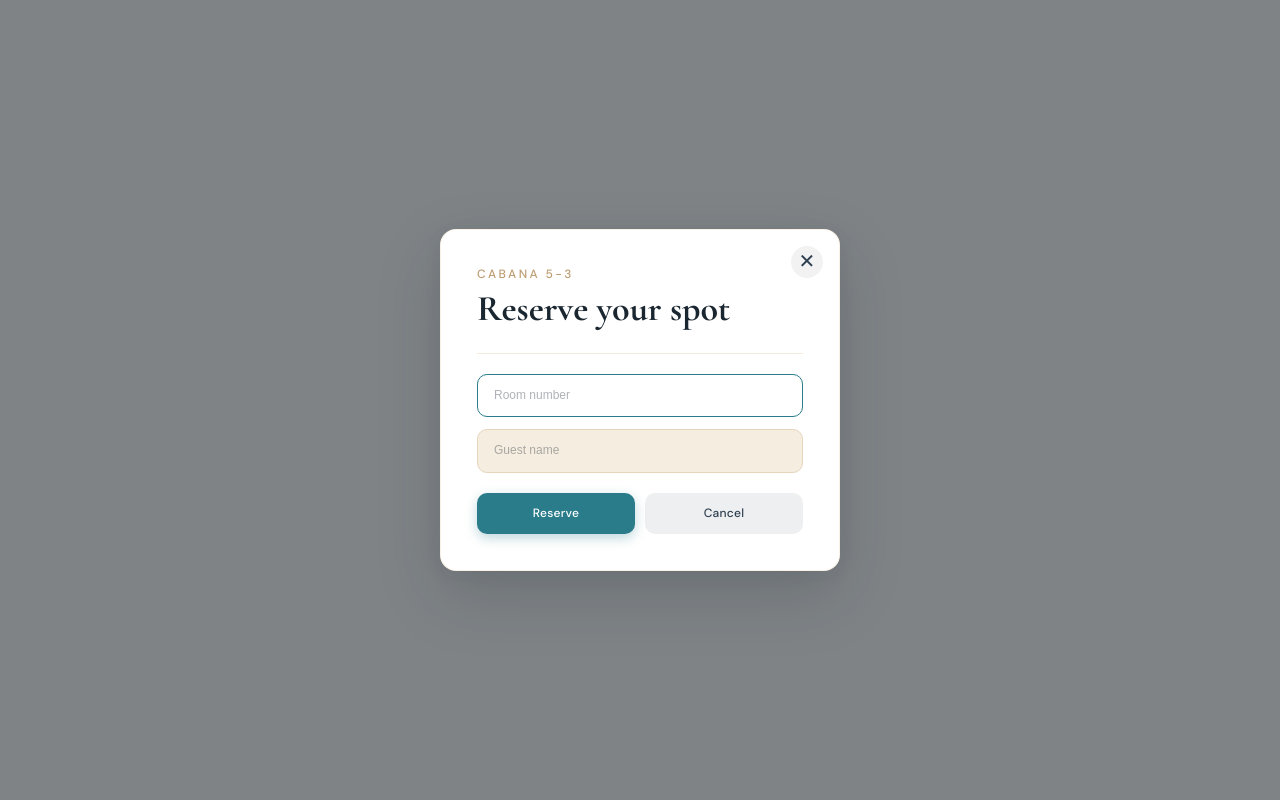
Test: CabanaModal › shows success screen after booking
Type "101" into the field with placeholder "Room number" at (640, 396), box [477,374,803,417]
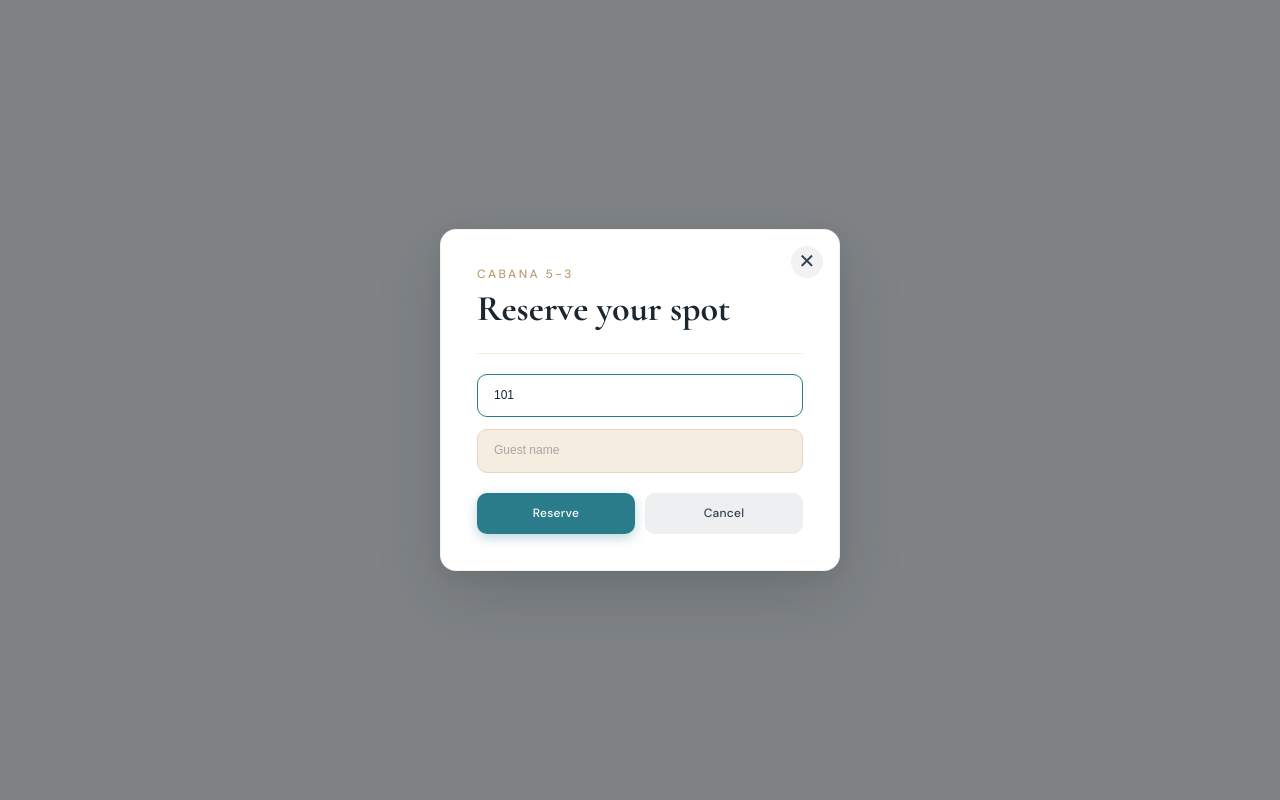
Type "Alice Smith" into the field with placeholder "Guest name" at (640, 451), box [477,429,803,473]
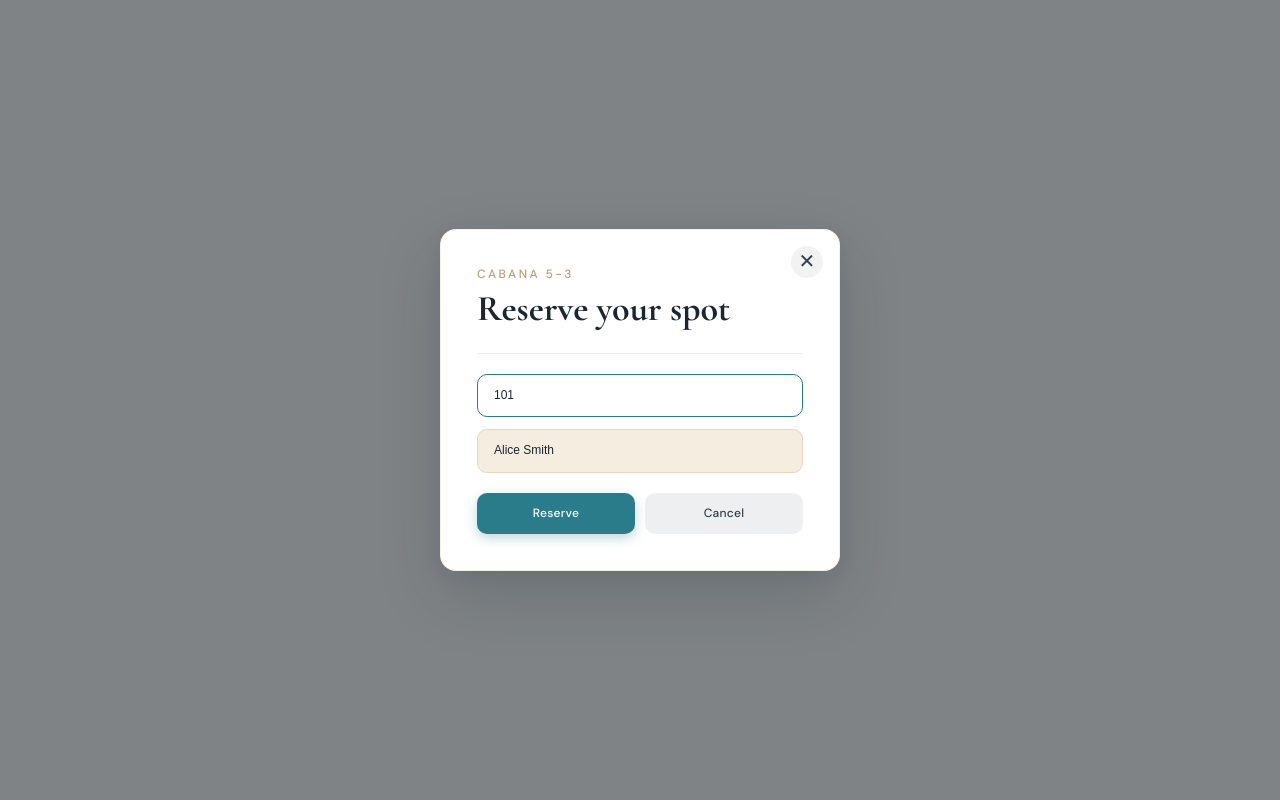
Click the button "Reserve" at (556, 513), box [477,493,635,534]
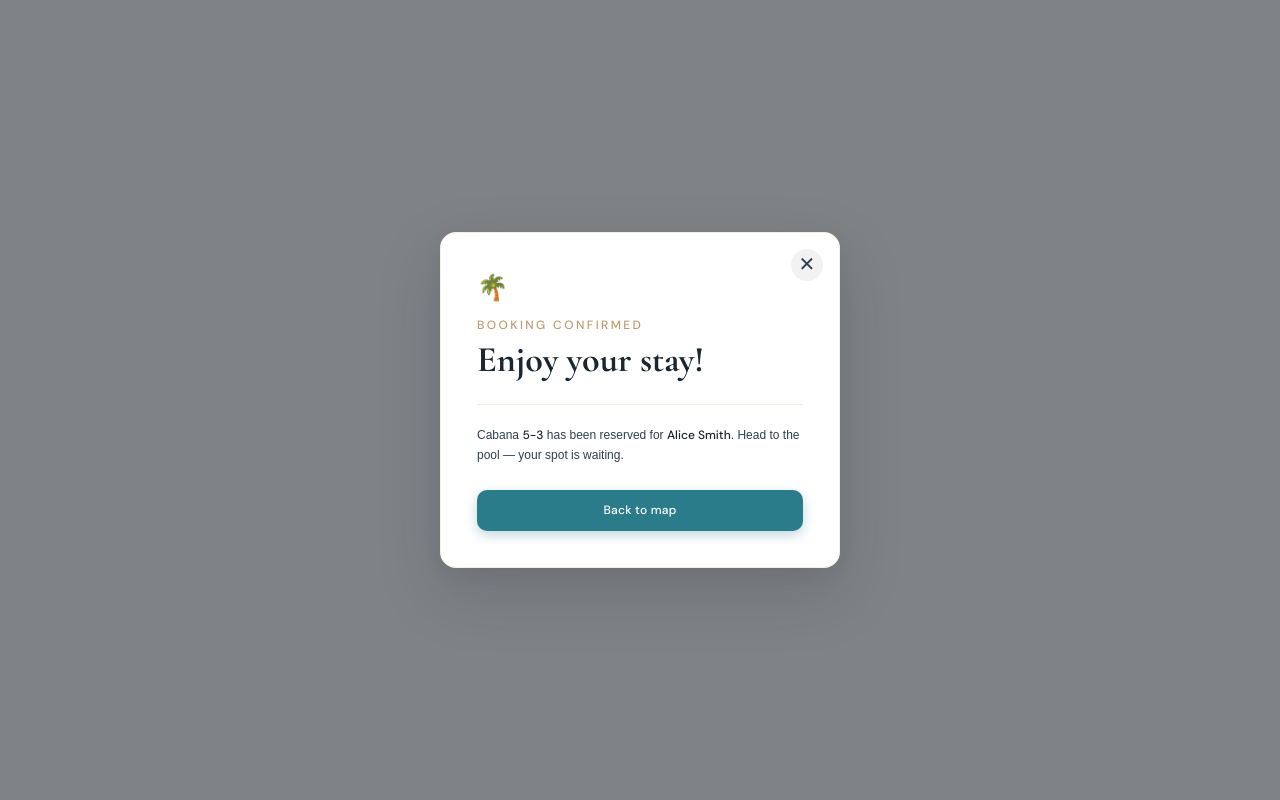
Now the heading "Enjoy your stay!" is shown, box [477,338,704,381]
